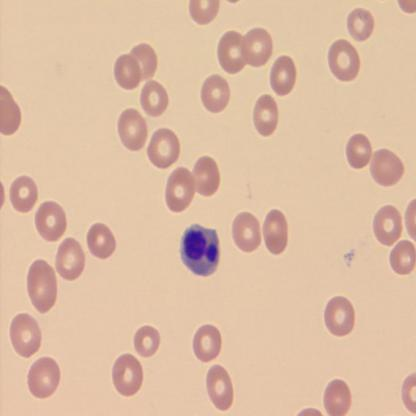NRC: (178, 221, 223, 279)
